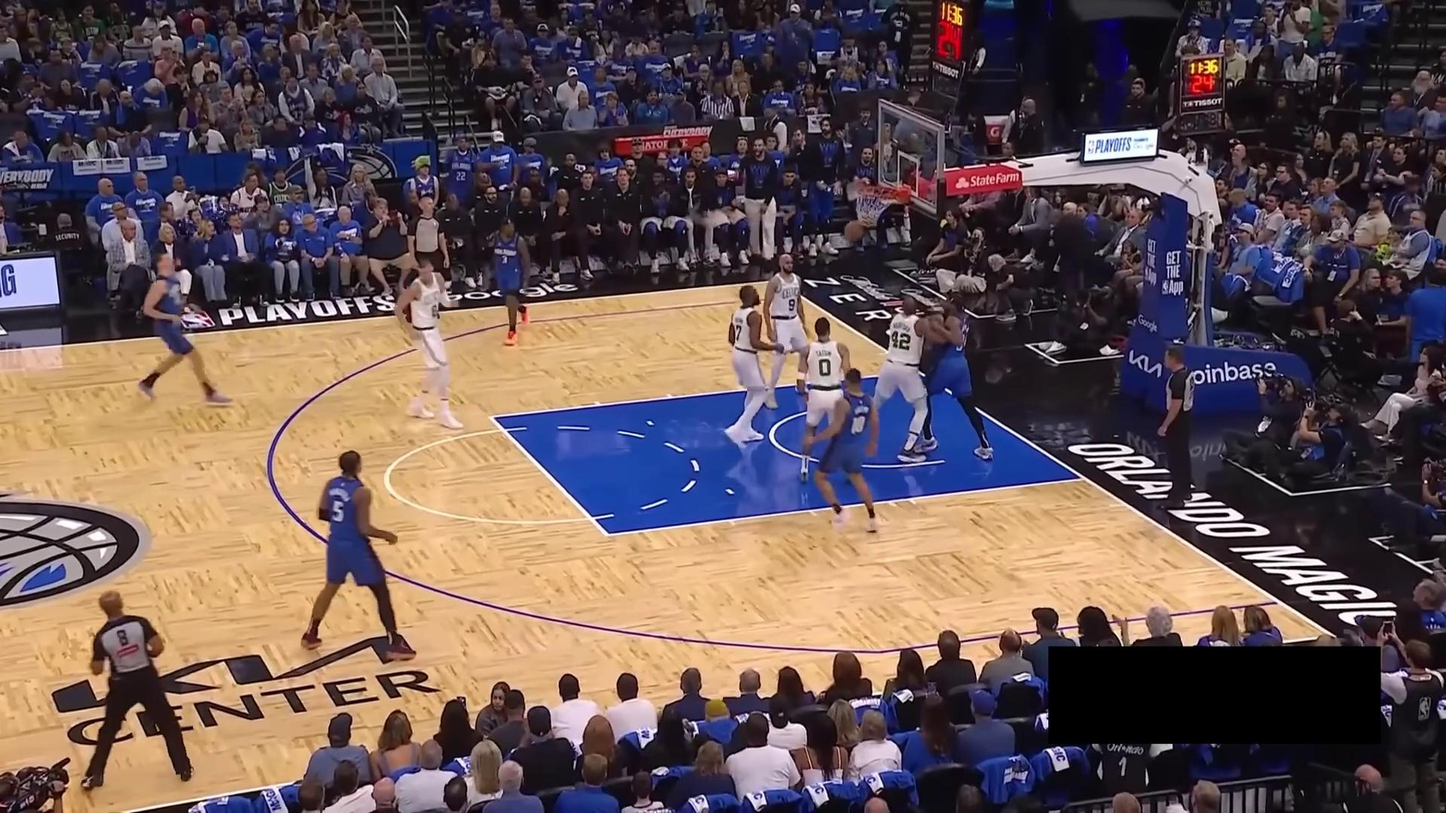ball: (844, 220, 865, 242)
number: (890, 330, 911, 351), (850, 415, 866, 436), (818, 358, 832, 378), (332, 500, 344, 522), (734, 324, 743, 342), (787, 297, 795, 312), (431, 304, 439, 319), (501, 254, 508, 265)
player: (299, 450, 417, 662), (80, 589, 194, 792), (135, 251, 234, 407), (913, 291, 996, 463), (868, 294, 950, 464), (803, 367, 880, 533), (394, 257, 464, 432), (723, 283, 786, 446), (795, 316, 853, 486), (761, 251, 810, 410), (483, 215, 532, 347)
referee: (81, 589, 193, 792), (1155, 346, 1197, 510), (405, 194, 450, 321)
rim: (853, 184, 898, 198)
